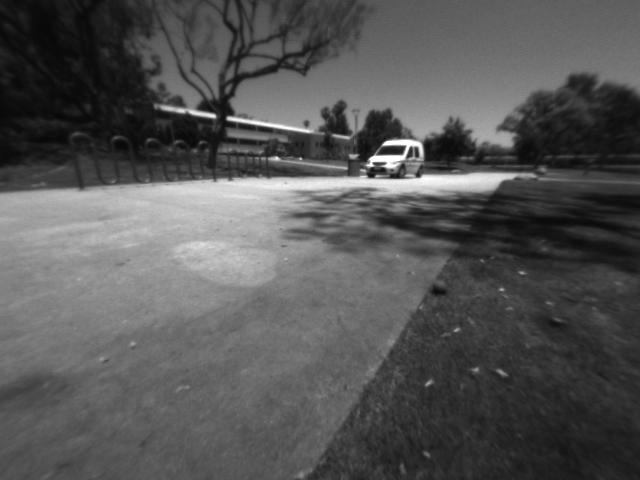dogtoy: (423, 265, 457, 299)
